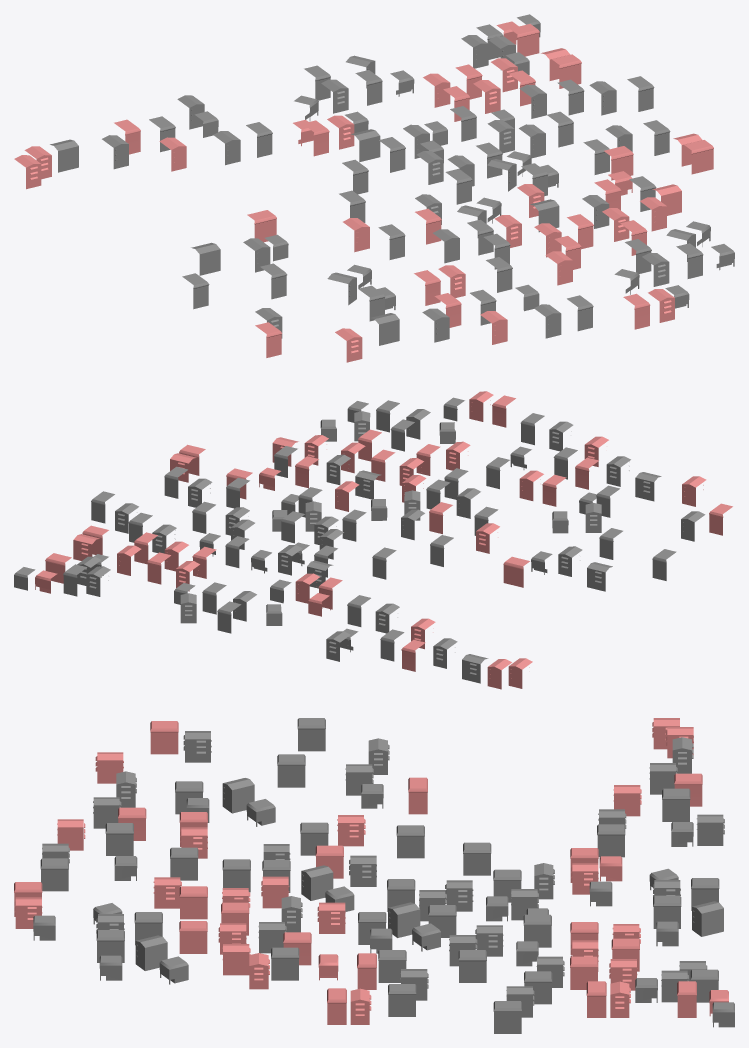
The model's file is SM_ENV_KNVLLG03_House_Distance_A.gltf.
The picture shows the model from 3 angles, top to bottom: view 1: azimuth 30°, elevation 25°; view 2: azimuth 150°, elevation 25°; view 3: azimuth 270°, elevation 25°; orthographic projection. The views are drawn at different scales.
Parts seen in each view (by area): view 1: SM_ENV_KNVLLG03_House_Distance_A; view 2: SM_ENV_KNVLLG03_House_Distance_A; view 3: SM_ENV_KNVLLG03_House_Distance_A.
Boxes of the visible parts, left/top/right/bottom form: SM_ENV_KNVLLG03_House_Distance_A: left=14, top=14, right=734, bottom=362; SM_ENV_KNVLLG03_House_Distance_A: left=14, top=391, right=732, bottom=689; SM_ENV_KNVLLG03_House_Distance_A: left=14, top=718, right=734, bottom=1033.
Size of the model in its own units: 524 by 22.17 by 546.
